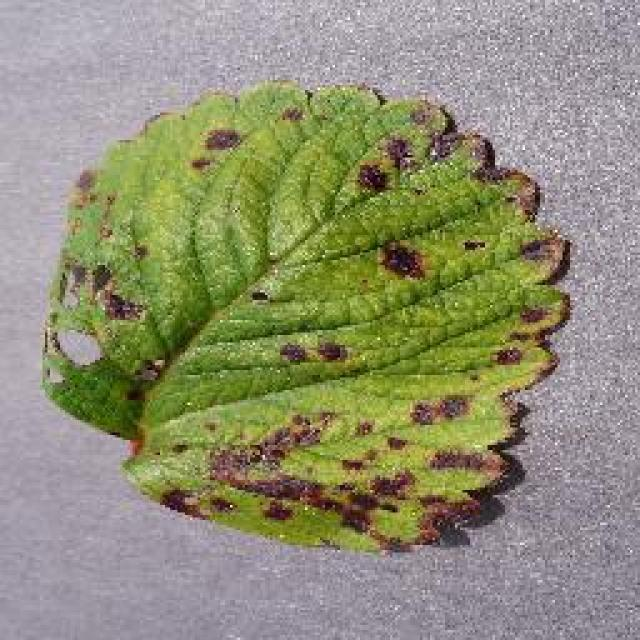Strawberry leaf scorch: (99, 183, 468, 507)
